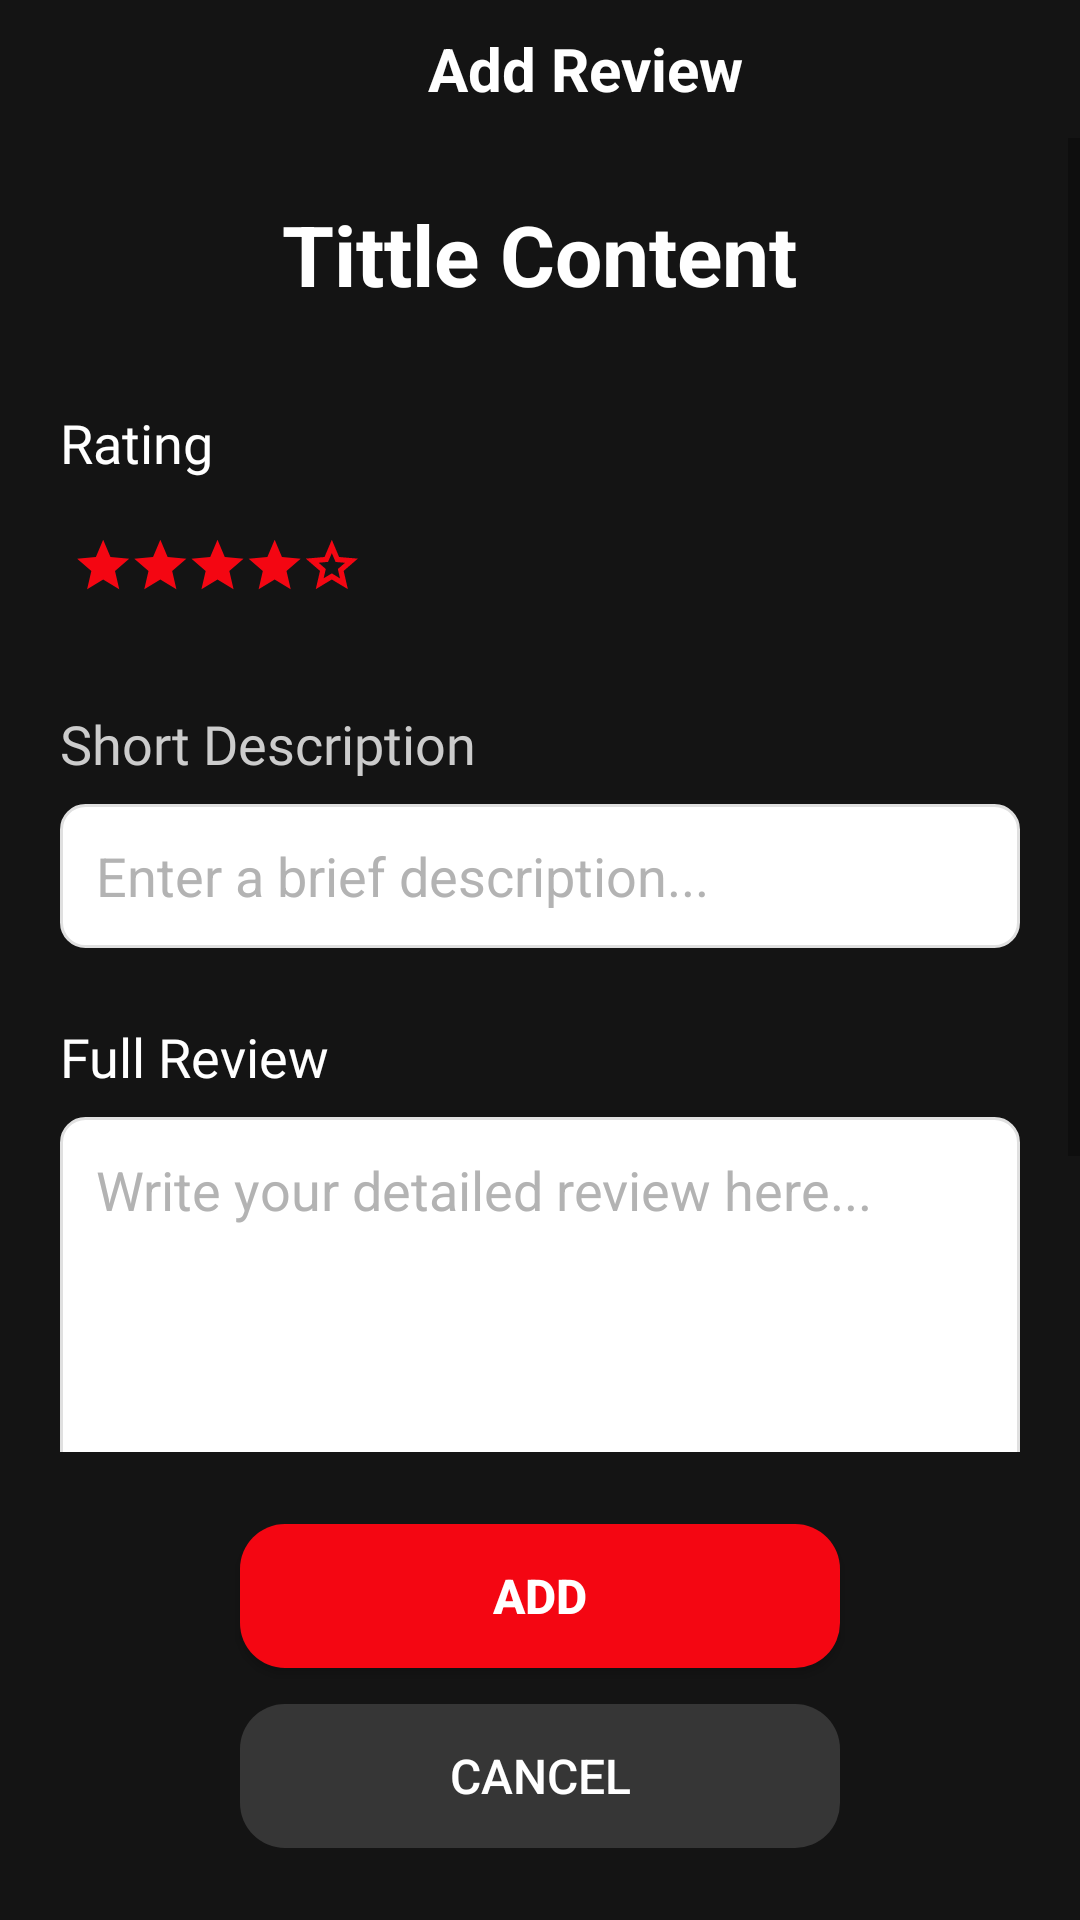

Icon bounding boxes for this 1080px x 1920px phone screenshot, format (x1, y1, x2, y2):
stars: (77, 540, 358, 589)
